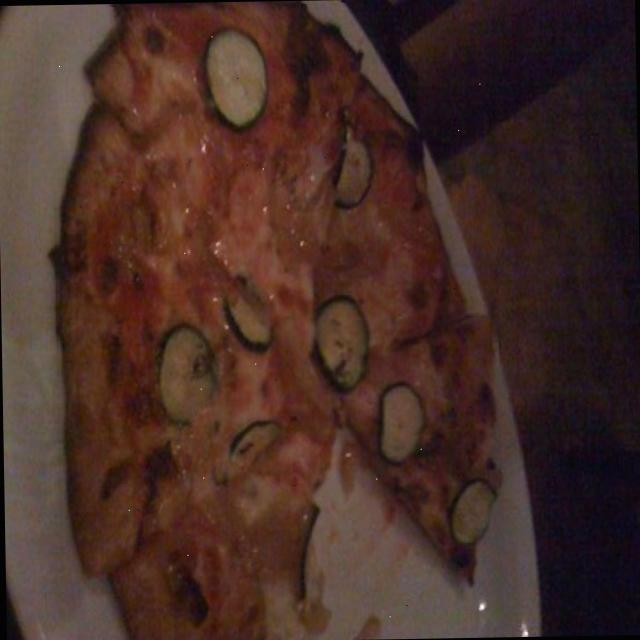pizza: (56, 4, 499, 640)
